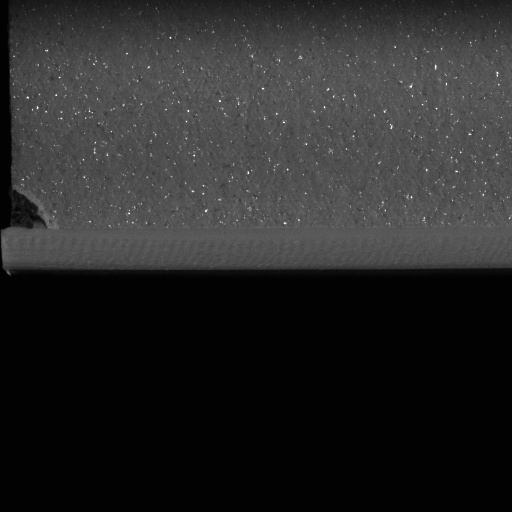bengque: (0, 187, 65, 234)
